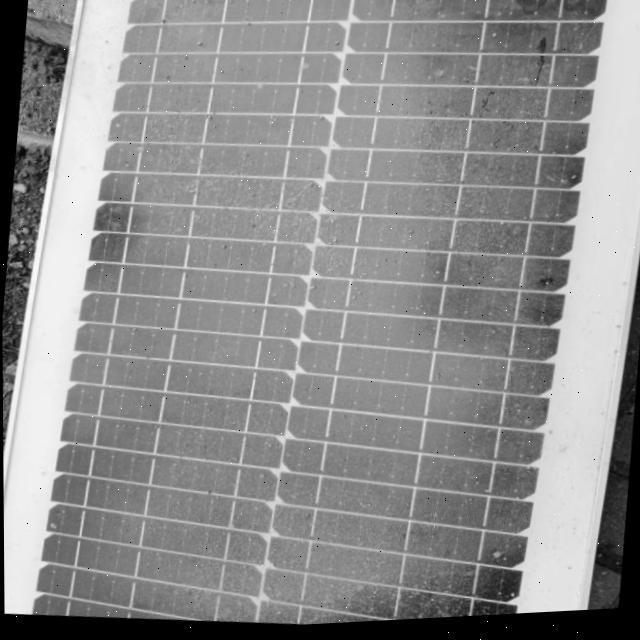Anomaly Solar Panel: (45, 0, 609, 638)
Surface Contaminant: (49, 0, 605, 628)
